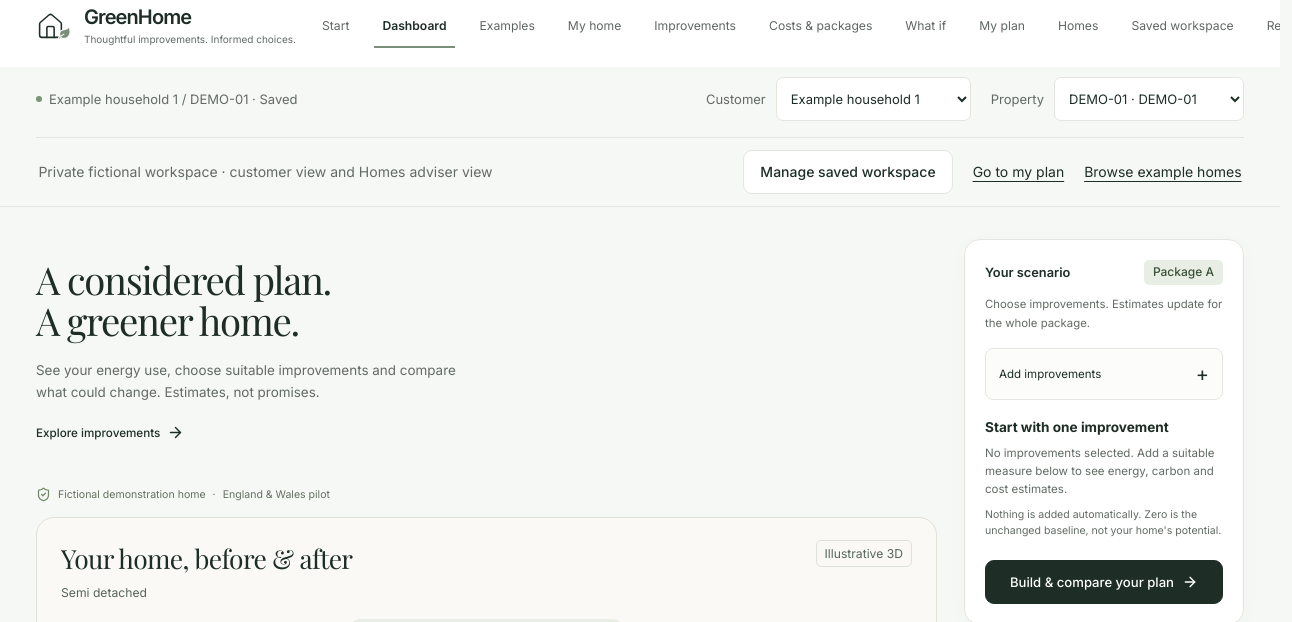
Scenario: private fictional workspace journey › sends the visible post-completion reading confirmation only after the user checks it
The width and height of the screenshot is (1292, 622).
Expected: the heading "A considered plan.A greener home." is shown, left=36, top=253, right=331, bottom=346
Expected: the dropdown labelled "Customer" is enabled, left=776, top=77, right=971, bottom=121
Click the link "My home". click: (595, 25)
box: left=568, top=18, right=621, bottom=32
(page scrolled)
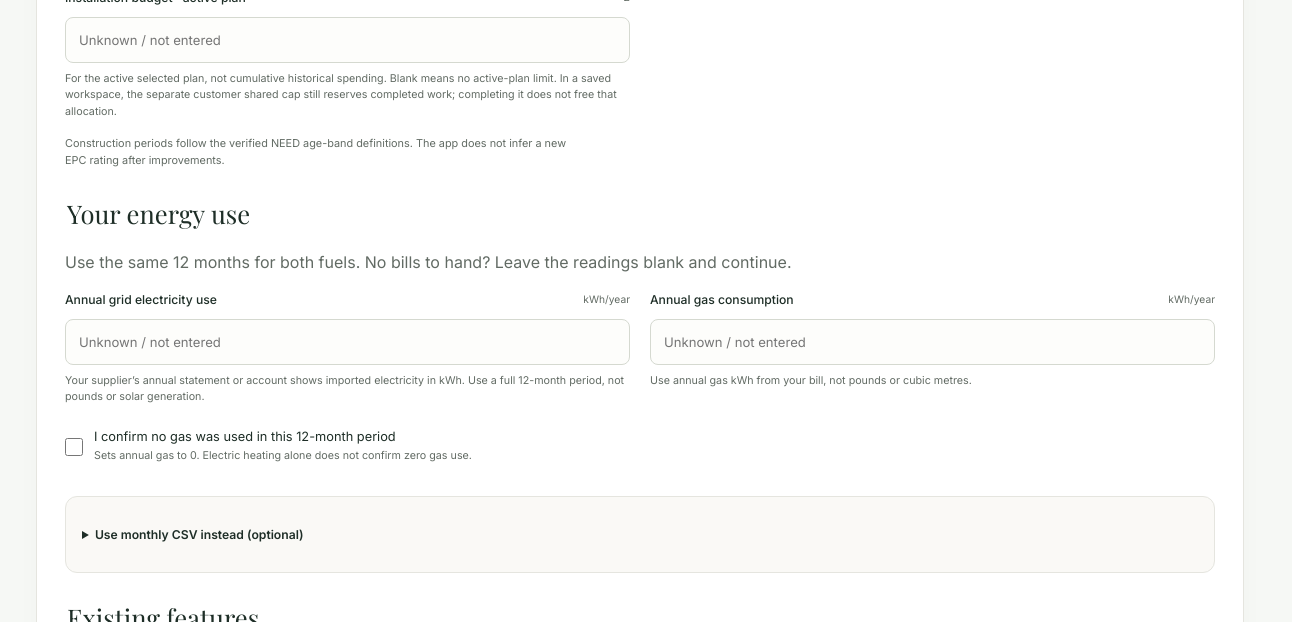
Type "3200" into the number field labelled "Annual grid electricity". click: (348, 342)
box: left=65, top=319, right=630, bottom=365
Type "9000" into the number field labelled "Annual gas consumption". click: (932, 342)
box: left=650, top=319, right=1215, bottom=365
(page scrolled)
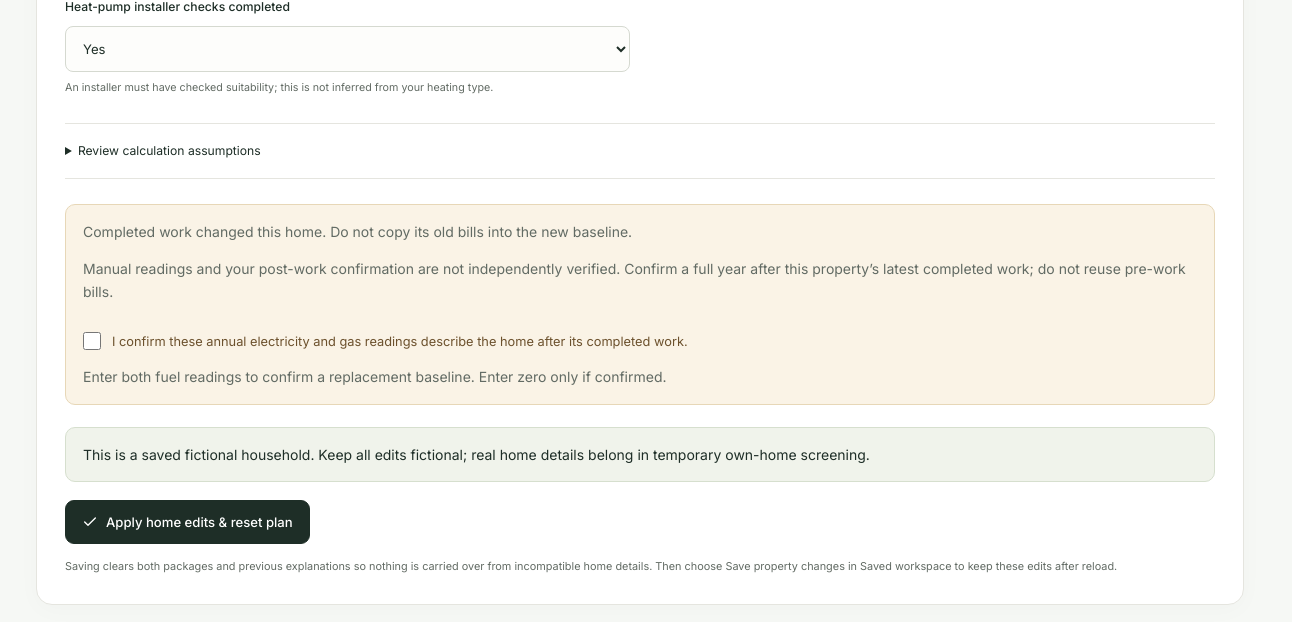
Click the checkbox labelled "describe the home after". click: (92, 341)
box: left=83, top=332, right=101, bottom=350
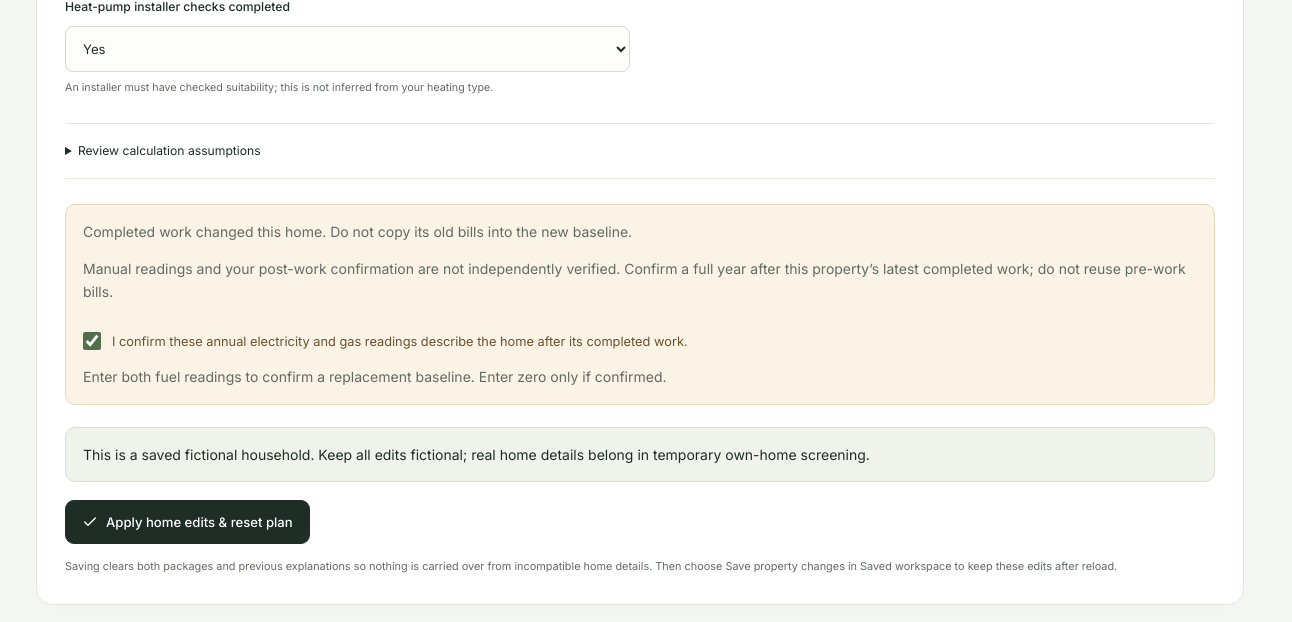
Click the button "Apply home edits & reset plan". click: (187, 522)
box: left=65, top=500, right=310, bottom=544
(page scrolled)
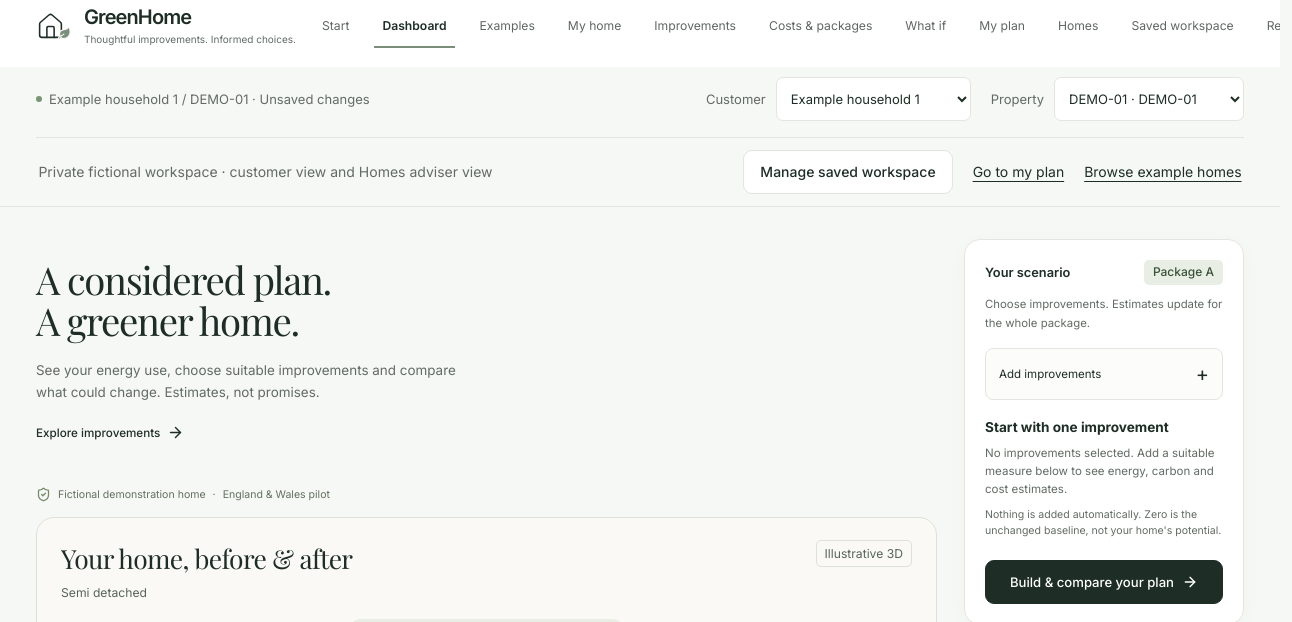
Result: the heading "A considered plan.A greener home." is shown at left=36, top=253, right=331, bottom=346
Click the link "Saved workspace". click: (1183, 25)
box: left=1131, top=18, right=1234, bottom=32
(page scrolled)
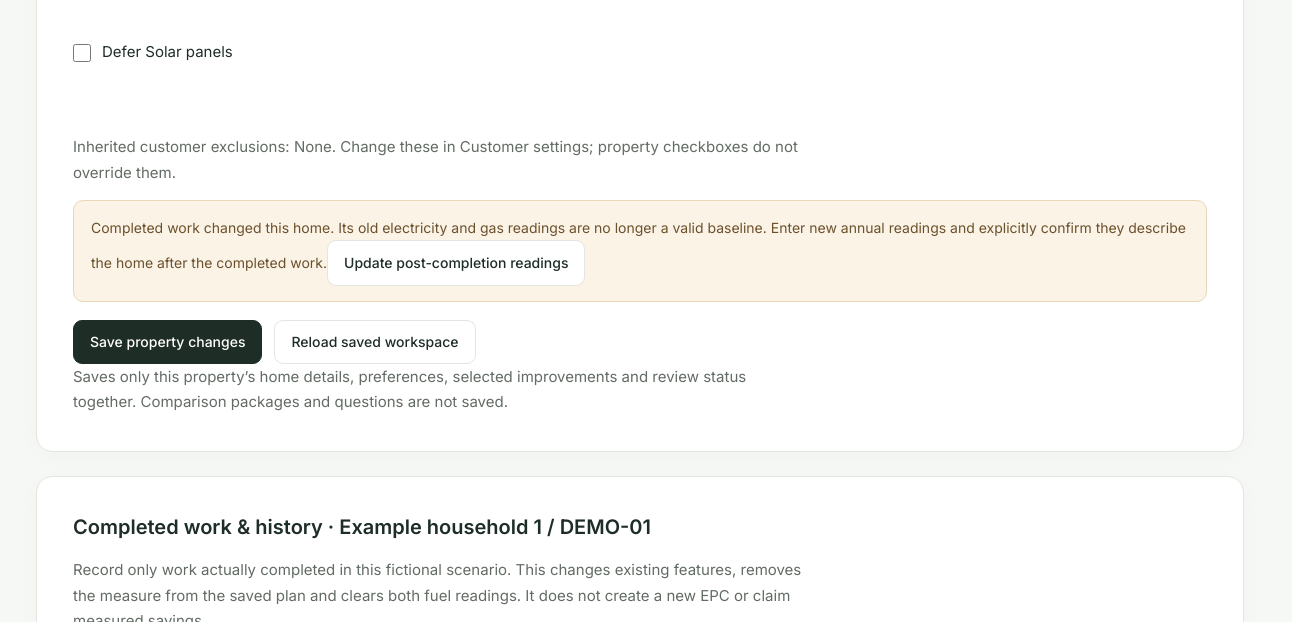
Click the button "Save property changes". click: (168, 342)
box: left=73, top=320, right=262, bottom=364
(page scrolled)
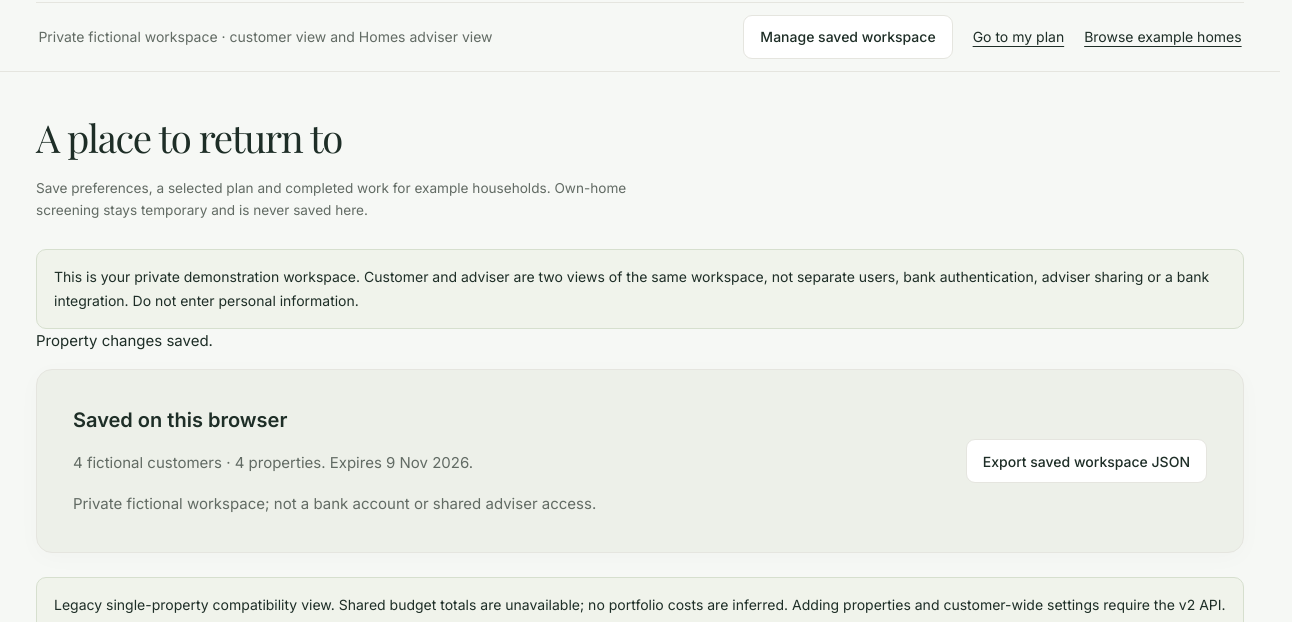
Result: the text "Property changes saved." is shown at left=36, top=331, right=213, bottom=350
